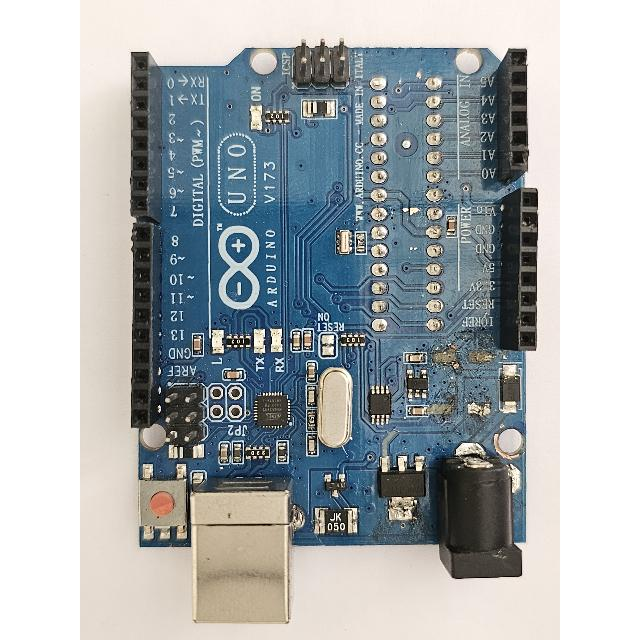missing_atmega: (368, 71, 450, 342)
missing_capacitors: (429, 342, 497, 428)
